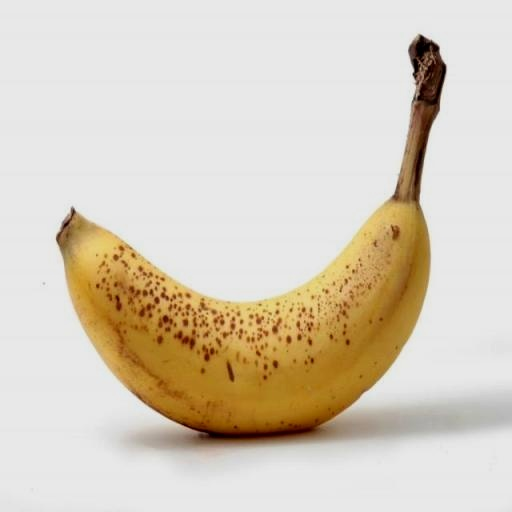fruit: (58, 36, 445, 434)
